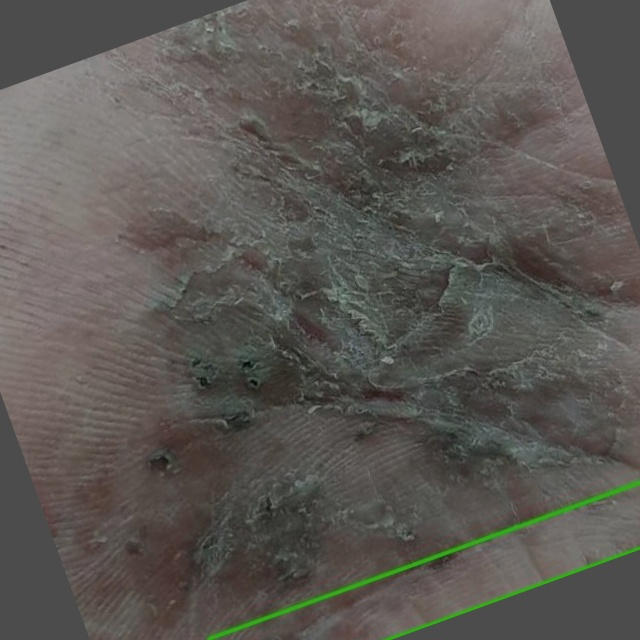Eczema: (209, 482, 639, 639)
